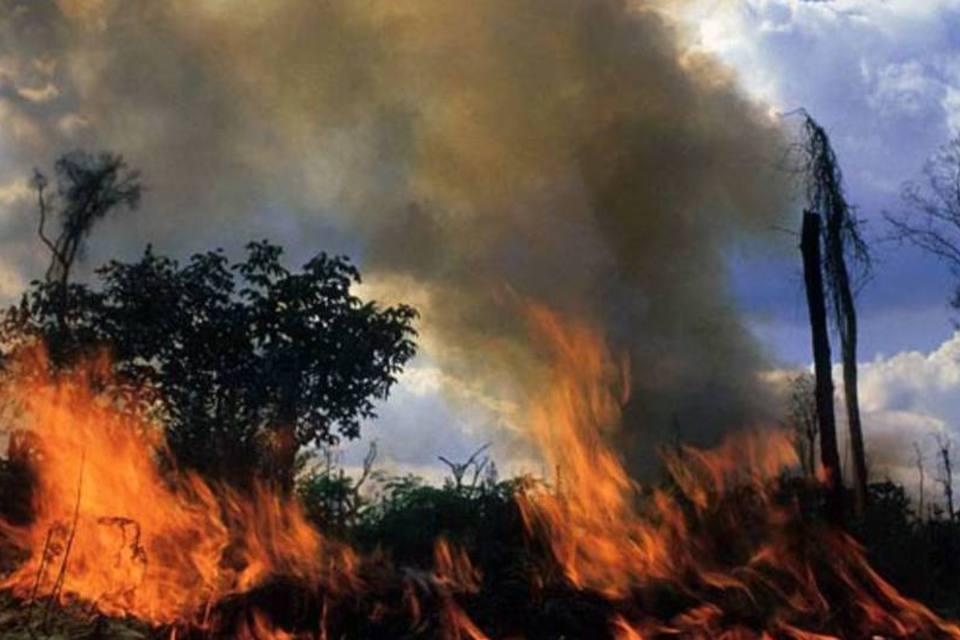Fire: (524, 322, 928, 640), (11, 305, 346, 639), (420, 532, 492, 635)
